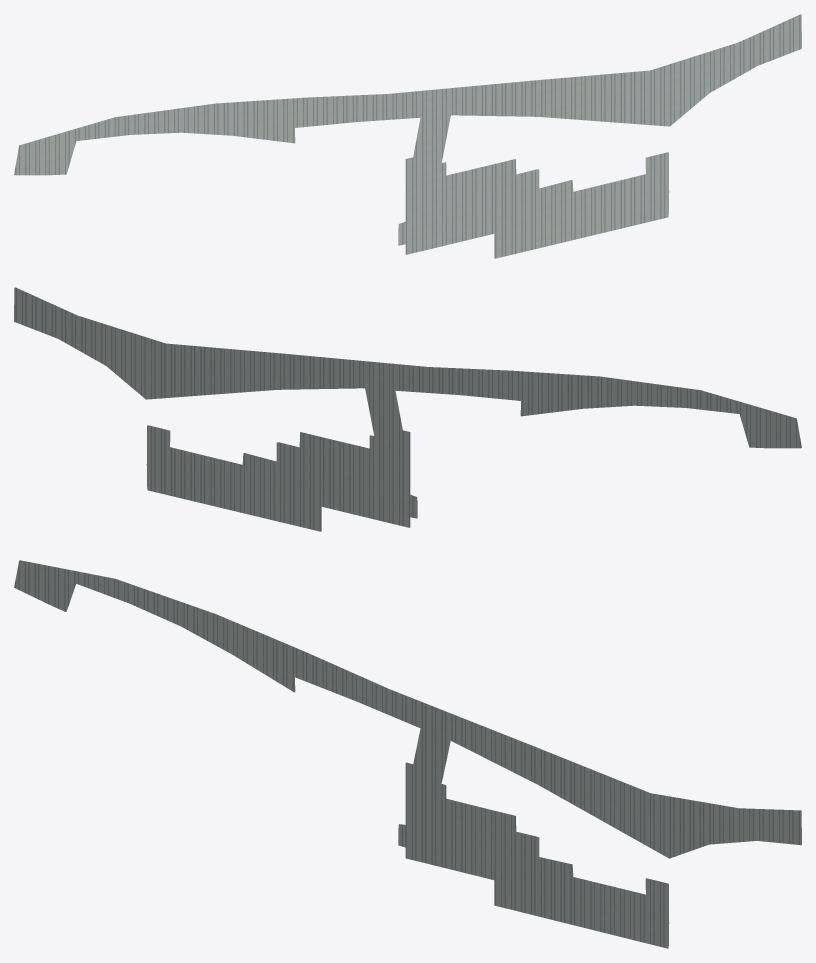
Rendered from floor_66.obj.
3 views of the same model, one above another, from view 1: azimuth 30°, elevation 25°; view 2: azimuth 150°, elevation 25°; view 3: azimuth 330°, elevation 25° (orthographic).
Parts seen in each view (by area): view 1: floor_66; view 2: floor_66; view 3: floor_66.
Boxes of the visible parts, x1=… form: floor_66: x1=14, y1=14, x2=801, y2=258; floor_66: x1=14, y1=287, x2=801, y2=531; floor_66: x1=14, y1=560, x2=801, y2=948.
Size of the model in its own units: 79.35 by 22.59 by 0.1.
Materials: 1 (1 with a texture image).
